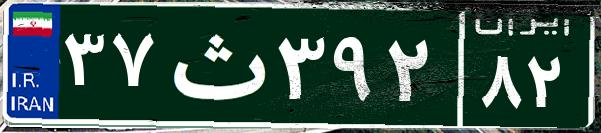2: (385, 28, 445, 110), (525, 38, 570, 115)
3: (273, 28, 330, 110), (57, 26, 110, 107)
7: (110, 28, 158, 105)
8: (475, 38, 525, 113)
9: (330, 28, 385, 110)
ث: (158, 15, 273, 115)
